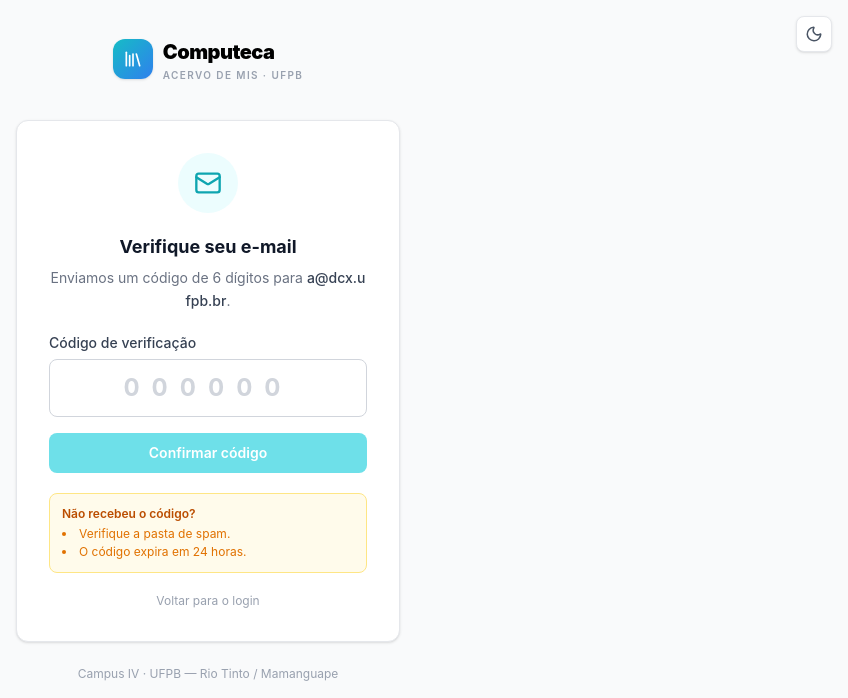
it: VerifyEmailSentPage › ignora caracteres não numéricos e limita a 6 dígitos
Type "ab12cd3456789" into the field labelled "Código de verificação".
click(208, 388); type("ab12cd3456789")  # box [49,359,367,417]
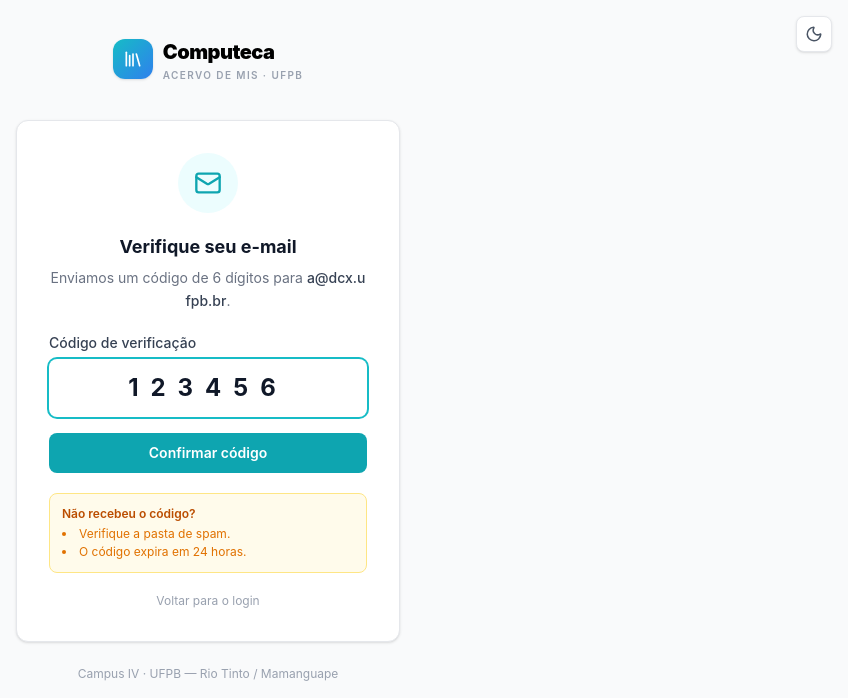
Check: the field labelled "Código de verificação" holds "123456", box [49,359,367,417]
